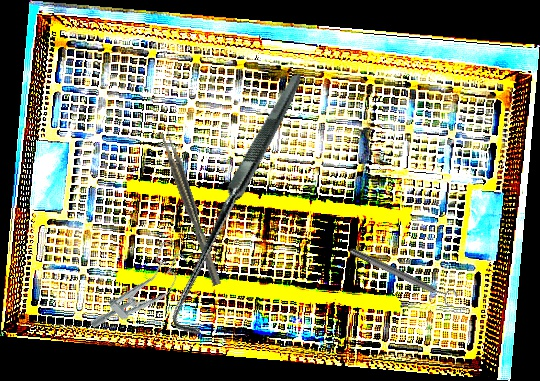Fixation Ring: (346, 241, 460, 309)
Hook Surgical: (103, 72, 378, 342)
Speculum: (83, 236, 198, 347)
Tissue Forceps: (158, 129, 222, 288)
